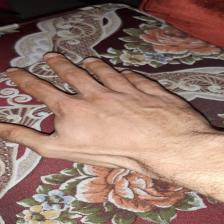five: (4, 52, 202, 164)
